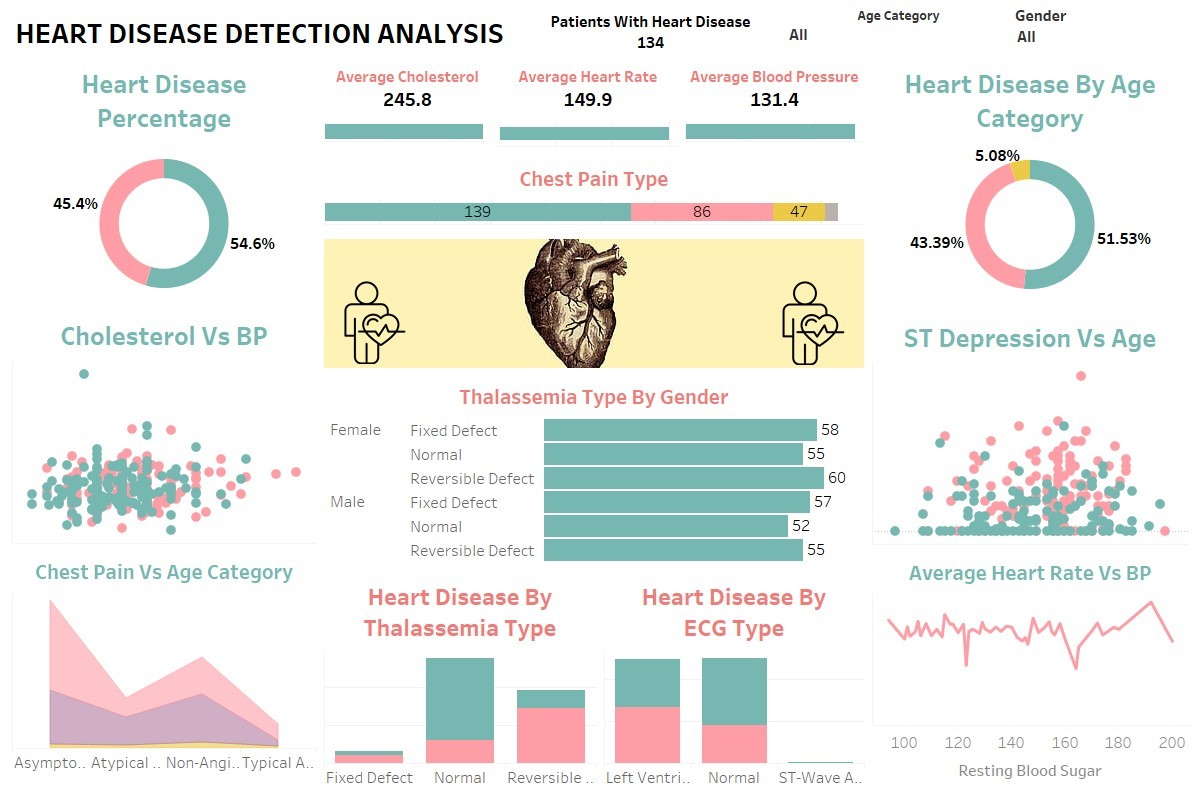

What the dashboard file says about the page in this screenshot:
{"tool":"powerbi","page":{"name":"Heart Disease Analysis","canvas":[1280,720],"ordinal":0},"visuals":[{"type":"image","box":[295.5,284.6,688.6,265.3],"z":0},{"type":"shape","box":[294.9,283.8,688.8,266],"z":1000},{"type":"textbox","box":[0,0,1279.8,67.9],"z":2000},{"type":"actionButton","box":[320.6,500.1,79.2,39.6],"z":3000},{"type":"actionButton","box":[399.8,500.1,79.2,39.6],"z":4000},{"type":"actionButton","box":[480.3,500.1,123.8,39.6],"z":5000},{"type":"columnChart","title":"Heart Disease By Thalassemia Type","fields":{"Category":["Heart Disease Diagnostic.Thalassemia Type"],"Y":["CountNonNull(Heart Disease Diagnostic.Thalassemia Type)"],"Series":["Heart Disease Diagnostic.Heart_Disease"]},"box":[285.5,549.4,358.7,170.3],"z":5500},{"type":"scatterChart","title":"Cholesterol vs BP","fields":{"X":["Heart Disease Diagnostic.resting_blood_sugar"],"Series":["Heart Disease Diagnostic.Heart_Disease"],"Y":["Sum(Heart Disease Diagnostic.cholesterol)"]},"box":[0,313.8,296,235.9],"z":6000},{"type":"lineChart","title":"Max Heart  Rate vs BP","fields":{"Y":["Avg(Heart Disease Diagnostic.max_heart_rate_achieved)"],"Category":["Heart Disease Diagnostic.resting_blood_sugar"]},"box":[983.7,549.7,296,170.3],"z":7000},{"type":"lineChart","title":"Chest Pain vs Age Category","fields":{"Y":["Sum(Heart Disease Diagnostic.chest_pain)"],"Series":["Heart Disease Diagnostic.Age_Range"],"Category":["Heart Disease Diagnostic.Chest_Pain_Type"]},"box":[0,549.9,295.5,170.1],"z":9000},{"type":"card","title":"Patients With Heart Disease","fields":{"Values":["Sum(Heart Disease Diagnostic.target)"]},"box":[632,0,202.6,67.5],"z":10000},{"type":"card","title":"Average Cholesterol","fields":{"Values":["Avg(Heart Disease Diagnostic.cholesterol)"]},"box":[286,67.9,228.1,95.7],"z":11000},{"type":"card","title":"Average Heart Rate","fields":{"Values":["Avg(Heart Disease Diagnostic.max_heart_rate_achieved)"]},"box":[499.7,67.9,273.8,100.2],"z":13000},{"type":"funnel","title":"CHEST PAIN TYPE","fields":{"Category":["Heart Disease Diagnostic.Chest_Pain_Type"],"Y":["CountNonNull(Heart Disease Diagnostic.Heart_Disease)"]},"box":[295.1,163.1,698.2,121.2],"z":13500},{"type":"card","title":"Average Blood Pressure","fields":{"Values":["Avg(Heart Disease Diagnostic.resting_blood_sugar)"]},"box":[764.6,67.5,229.1,96.5],"z":14000},{"type":"donutChart","title":"Heart Disease Percentage","fields":{"Y":["CountNonNull(Heart Disease Diagnostic.sex1)"],"Category":["Heart Disease Diagnostic.Heart_Disease"]},"box":[0,67.5,295.5,246],"z":15000},{"type":"pieChart","title":"Heart Disease By Age Category","fields":{"Category":["Heart Disease Diagnostic.Age_Range"],"Y":["Divide(CountNonNull(Heart Disease Diagnostic.Heart_Disease), ScopedEval(CountNonNull(Heart Disease Diagnostic.Heart_Dise"]},"box":[983.7,67.9,296,245.9],"z":16000},{"type":"slicer","title":"Gender","fields":{"Values":["Heart Disease Diagnostic.sex1"]},"box":[834.6,0,218.3,67.5],"z":17000},{"type":"slicer","title":"Age Category","fields":{"Values":["Heart Disease Diagnostic.Age_Range"]},"box":[1052.7,0,227,67.9],"z":18000},{"type":"scatterChart","title":"ST Depression vs Age","fields":{"Series":["Heart Disease Diagnostic.Heart_Disease"],"X":["Heart Disease Diagnostic.age"],"Y":["Heart Disease Diagnostic.st_depression"]},"box":[984.9,313.8,294.9,235.9],"z":19000},{"type":"columnChart","title":"Heart Disease By ECG Type","fields":{"Y":["CountNonNull(Heart Disease Diagnostic.Thalassemia Type)"],"Series":["Heart Disease Diagnostic.Heart_Disease"],"Category":["Heart Disease Diagnostic.ECG Measure"]},"box":[640.4,549.9,343.7,170.1],"z":20000},{"type":"actionButton","box":[614,500.1,115.1,39.6],"z":21000},{"type":"actionButton","box":[729.1,500.1,120.1,39.6],"z":22000},{"type":"actionButton","box":[849.2,500.1,122.6,39.6],"z":23000},{"type":"shape","box":[335.3,313.6,609,186.9],"z":24000},{"type":"textbox","title":"Age Text","box":[349.7,330.5,576.5,154.4],"z":26000},{"type":"image","box":[295.5,284.6,54.3,45.8],"z":31000},{"type":"image","box":[929.8,284.6,54.3,45.8],"z":32000}]}

Visuals, with their boxes on the page's 1280x720 design canvas (x1, y1, x2, y2). These are canvas units, not pixel positions in the 1200x800 screenshot, which may show the page scaled, cropped or inside an application window:
image: rect(296, 285, 984, 550)
shape: rect(295, 284, 984, 550)
textbox: rect(0, 0, 1280, 68)
actionButton: rect(321, 500, 400, 540)
actionButton: rect(400, 500, 479, 540)
actionButton: rect(480, 500, 604, 540)
"Heart Disease By Thalassemia Type" columnChart: rect(286, 549, 644, 720)
"Cholesterol vs BP" scatterChart: rect(0, 314, 296, 550)
"Max Heart  Rate vs BP" lineChart: rect(984, 550, 1280, 720)
"Chest Pain vs Age Category" lineChart: rect(0, 550, 296, 720)
"Patients With Heart Disease" card: rect(632, 0, 835, 68)
"Average Cholesterol" card: rect(286, 68, 514, 164)
"Average Heart Rate" card: rect(500, 68, 774, 168)
"CHEST PAIN TYPE" funnel: rect(295, 163, 993, 284)
"Average Blood Pressure" card: rect(765, 68, 994, 164)
"Heart Disease Percentage" donutChart: rect(0, 68, 296, 314)
"Heart Disease By Age Category" pieChart: rect(984, 68, 1280, 314)
"Gender" slicer: rect(835, 0, 1053, 68)
"Age Category" slicer: rect(1053, 0, 1280, 68)
"ST Depression vs Age" scatterChart: rect(985, 314, 1280, 550)
"Heart Disease By ECG Type" columnChart: rect(640, 550, 984, 720)
actionButton: rect(614, 500, 729, 540)
actionButton: rect(729, 500, 849, 540)
actionButton: rect(849, 500, 972, 540)
shape: rect(335, 314, 944, 500)
"Age Text" textbox: rect(350, 330, 926, 485)
image: rect(296, 285, 350, 330)
image: rect(930, 285, 984, 330)
